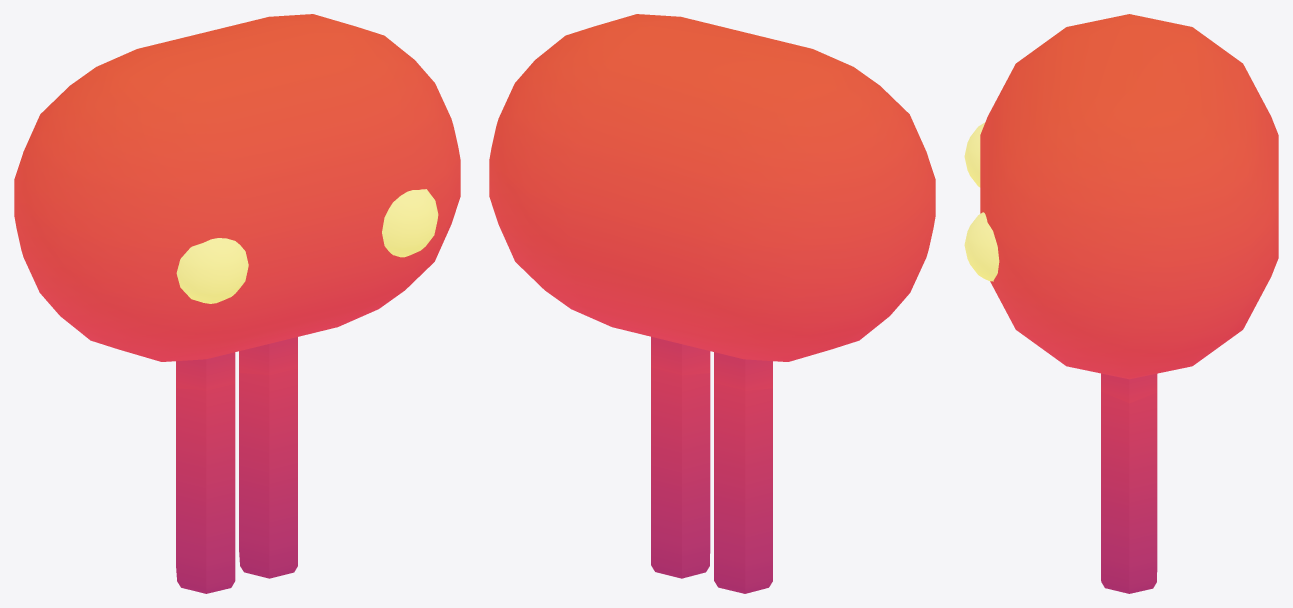
Rendered from FbxCharacter.fbx.
3 renders of one model, left to right at view 1: azimuth 30°, elevation 25°; view 2: azimuth 150°, elevation 25°; view 3: azimuth 270°, elevation 25°, orthographic. The views are drawn at different scales.
Parts seen in each view (by area): view 1: Capsule, Eyes; view 2: Capsule; view 3: Capsule, Eyes.
Part boxes in pixels (left/top/right/bottom): Capsule: left=14, top=14, right=460, bottom=593; Eyes: left=176, top=189, right=438, bottom=303; Capsule: left=489, top=14, right=935, bottom=593; Capsule: left=980, top=14, right=1278, bottom=593; Eyes: left=964, top=122, right=999, bottom=281.
Size of the model in its own units: 86.4 by 107 by 60.01.
